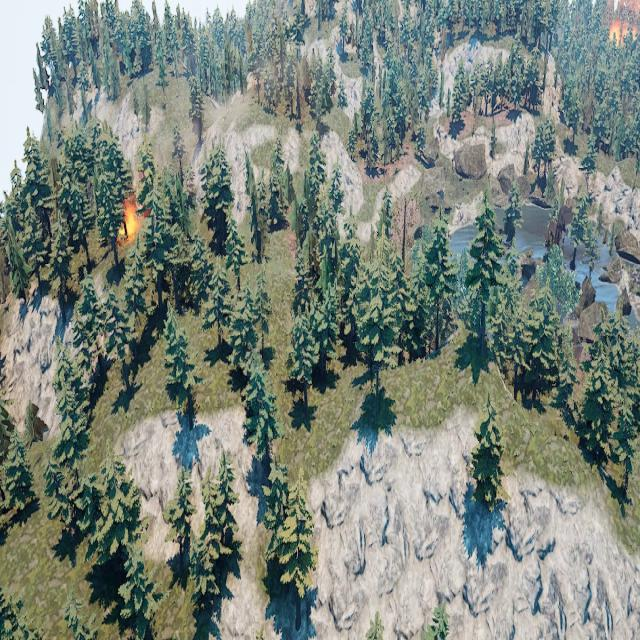fire: (122, 200, 140, 241), (609, 23, 623, 46)
smoke: (607, 0, 640, 24)
